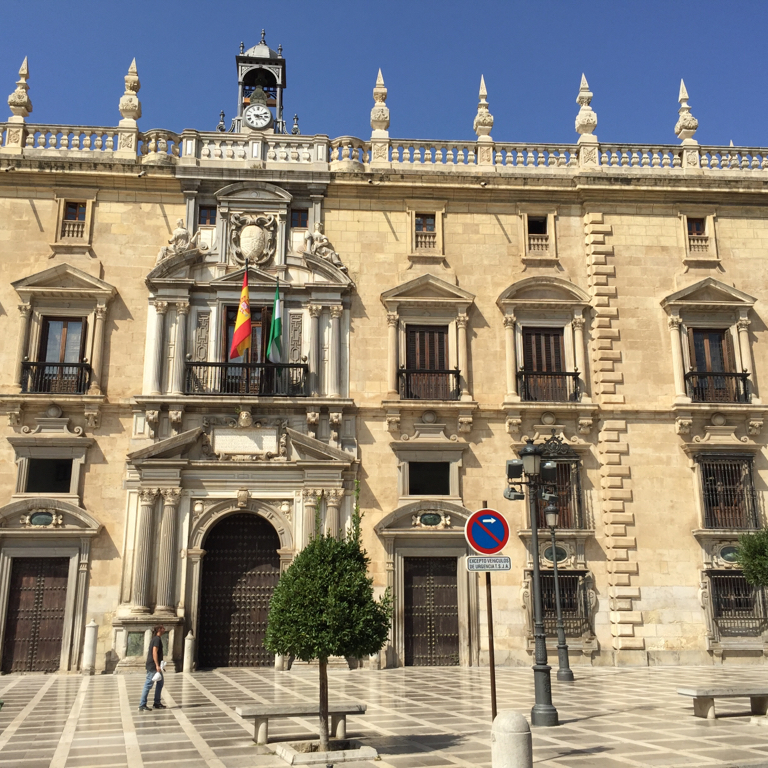arco-medio-punto: (196, 505, 289, 567)
fronton: (8, 260, 121, 301), (377, 272, 476, 309), (660, 276, 759, 311), (208, 266, 291, 292)
fronton-curvo: (1, 497, 107, 539), (374, 500, 480, 538), (494, 275, 594, 307), (213, 181, 294, 206)
fronton-partido: (126, 422, 357, 473), (144, 246, 353, 294)
vano-adintelado: (1, 544, 82, 675), (392, 541, 472, 669), (394, 313, 463, 404), (679, 318, 744, 408), (510, 315, 576, 401)
